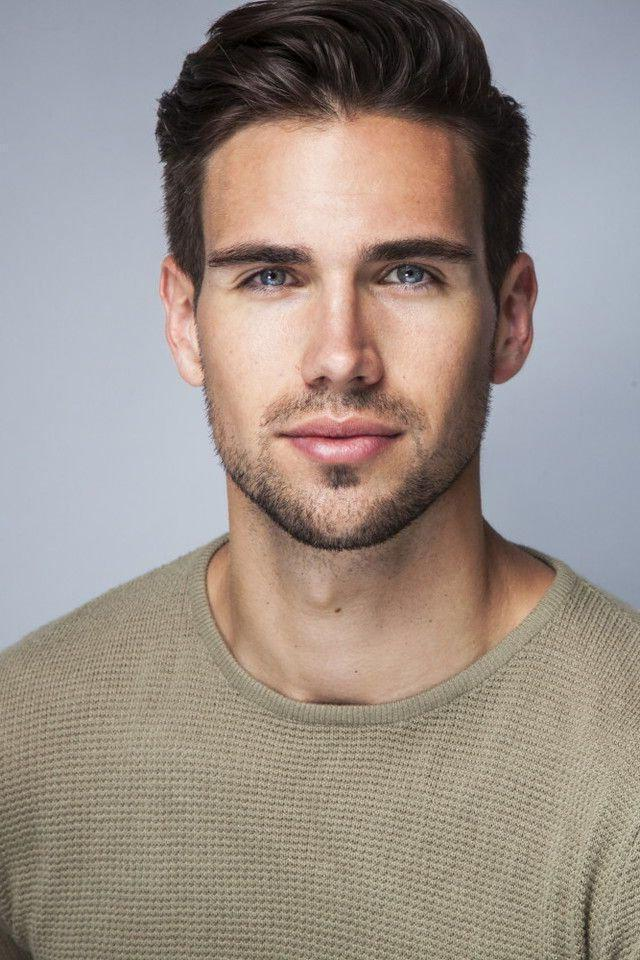Sober: (205, 132, 484, 539)
